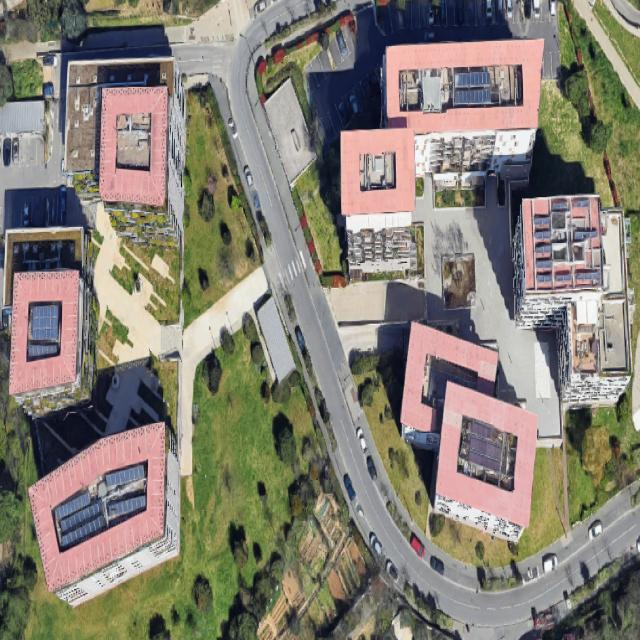immeuble: (0, 410, 220, 611), (509, 192, 636, 408), (380, 41, 548, 189), (63, 56, 186, 247), (4, 227, 98, 417), (431, 382, 540, 543), (395, 322, 500, 455), (340, 129, 416, 277)
